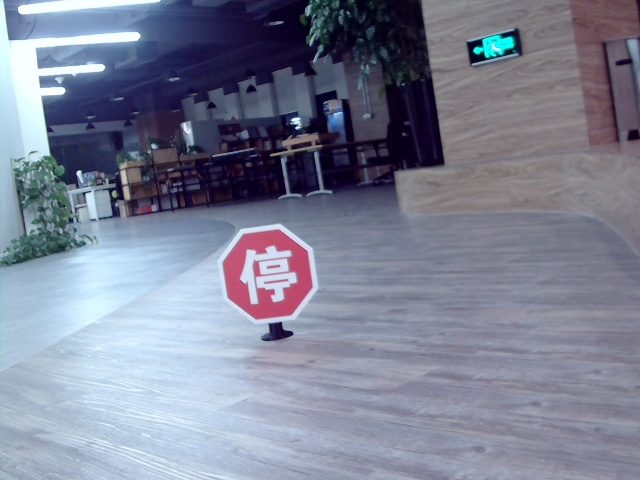stop: (235, 243, 298, 303)
